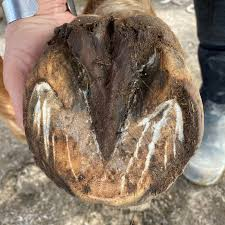horsesole: (22, 45, 204, 209)
